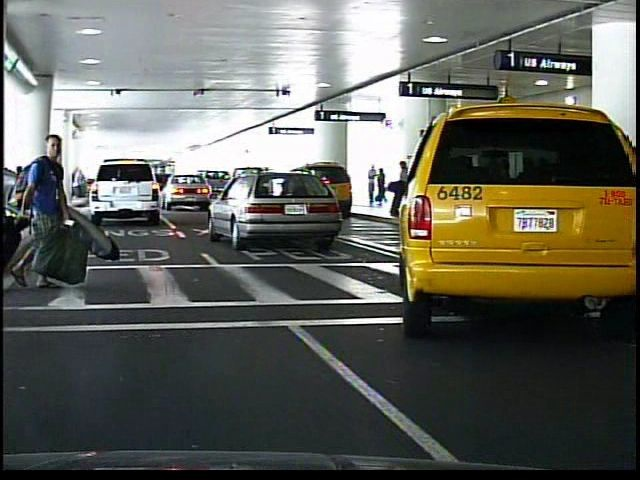person: (22, 126, 78, 300), (376, 165, 387, 208), (365, 165, 376, 206)
